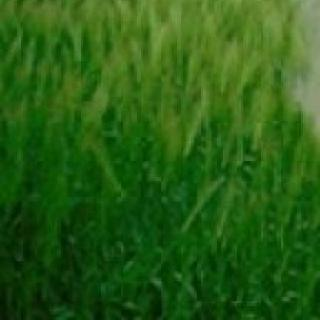smoke: (277, 0, 320, 272)
